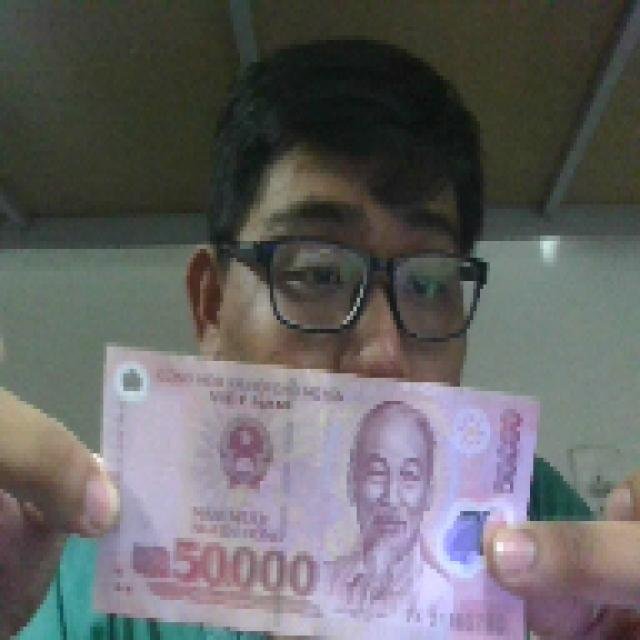50 000 VND: (90, 338, 544, 636)
